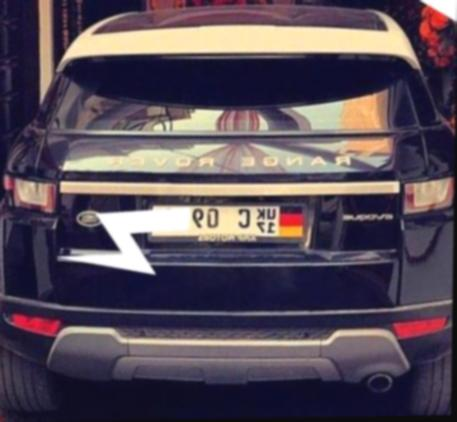License_Plate: (153, 204, 282, 236)
